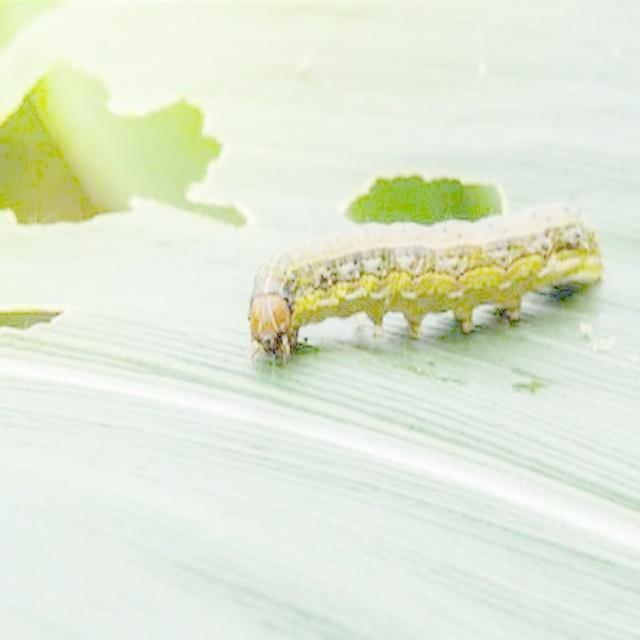gusano_cogollero: (243, 207, 602, 364)
